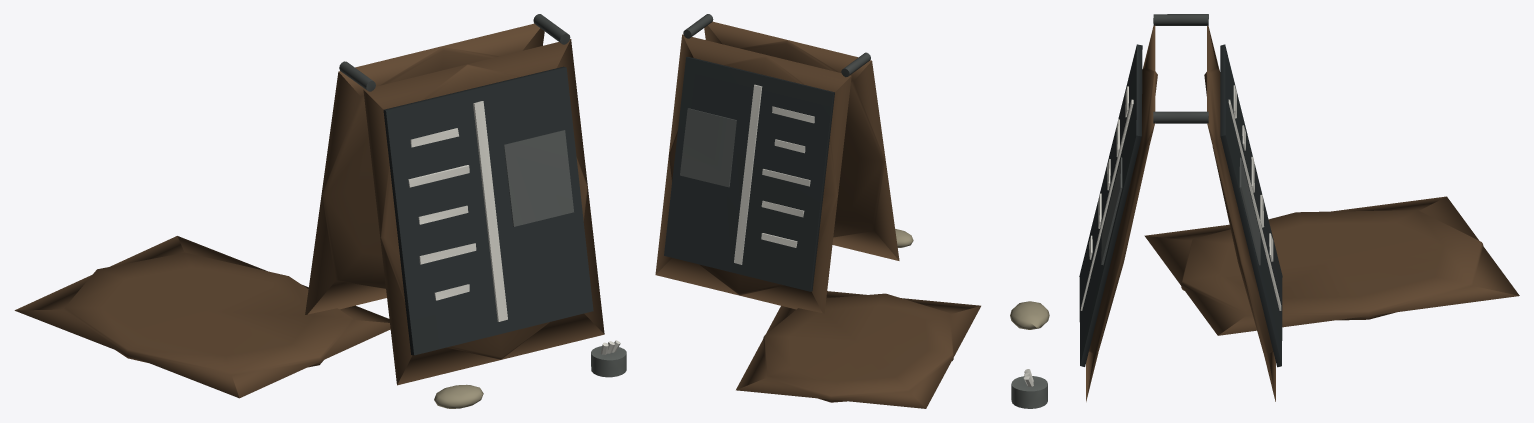
File: shift_board_b.glb
The picture shows the model from 3 angles, left to right: view 1: azimuth 30°, elevation 25°; view 2: azimuth 150°, elevation 25°; view 3: azimuth 270°, elevation 25°; orthographic projection. The views are drawn at different scales.
Parts seen in each view (by area): view 1: Surface; view 2: Surface; view 3: Surface.
Boxes of the visible parts, left/top/right/bottom form: Surface: left=14, top=14, right=626, bottom=408; Surface: left=655, top=14, right=980, bottom=408; Surface: left=1010, top=14, right=1519, bottom=408.
Bounding box in the file's own units: 1.8 × 1.19 × 1.85.
